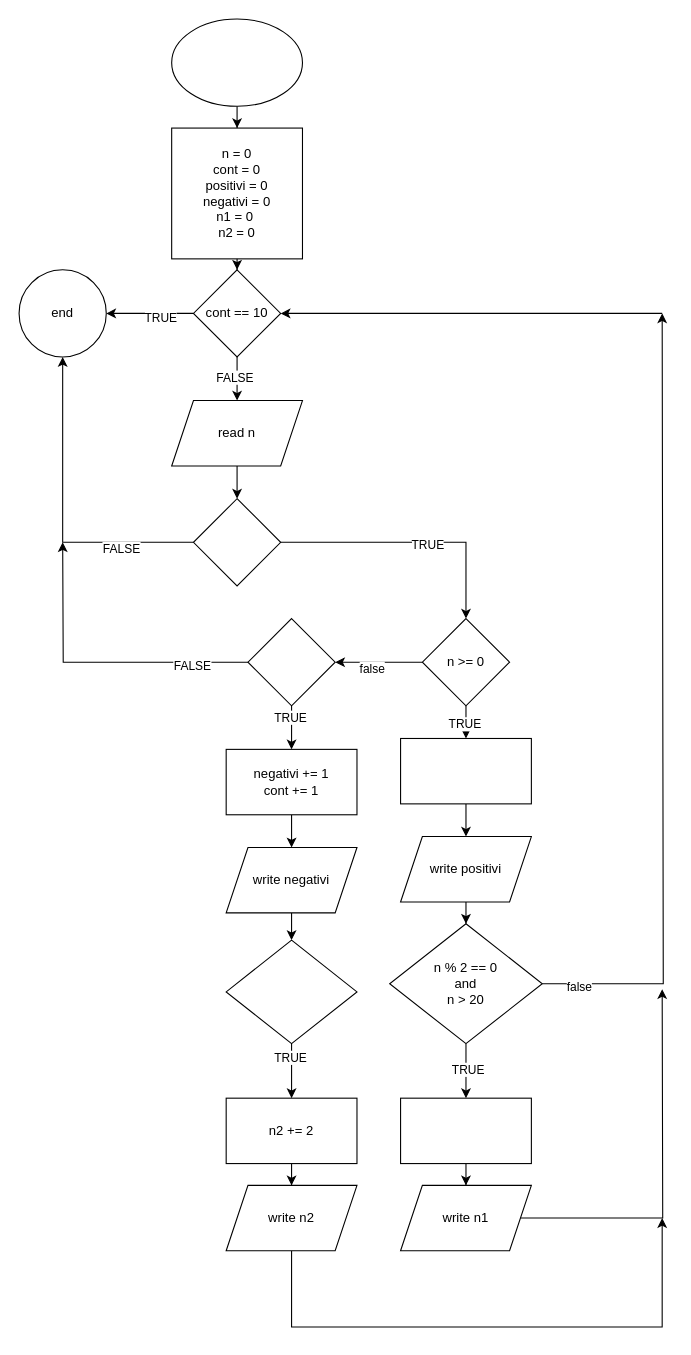
Image size: 691x1355. Some labels were removed from this diagram. Each missing label, with the centre of its shape:
n % 1 == 0: point (236, 542)
n % 2 == 1 and n < -10: point (291, 991)
n < 0: point (291, 661)
n1 += 1: point (465, 1130)
positivi += 1 cont += 1: point (465, 770)
start: point (236, 62)
